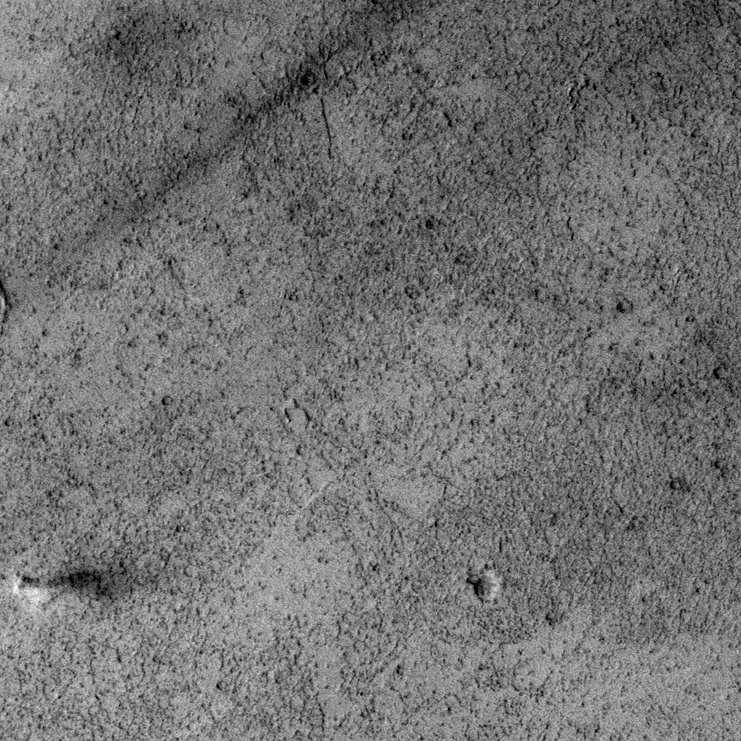dust_devil: (11, 564, 121, 617)
